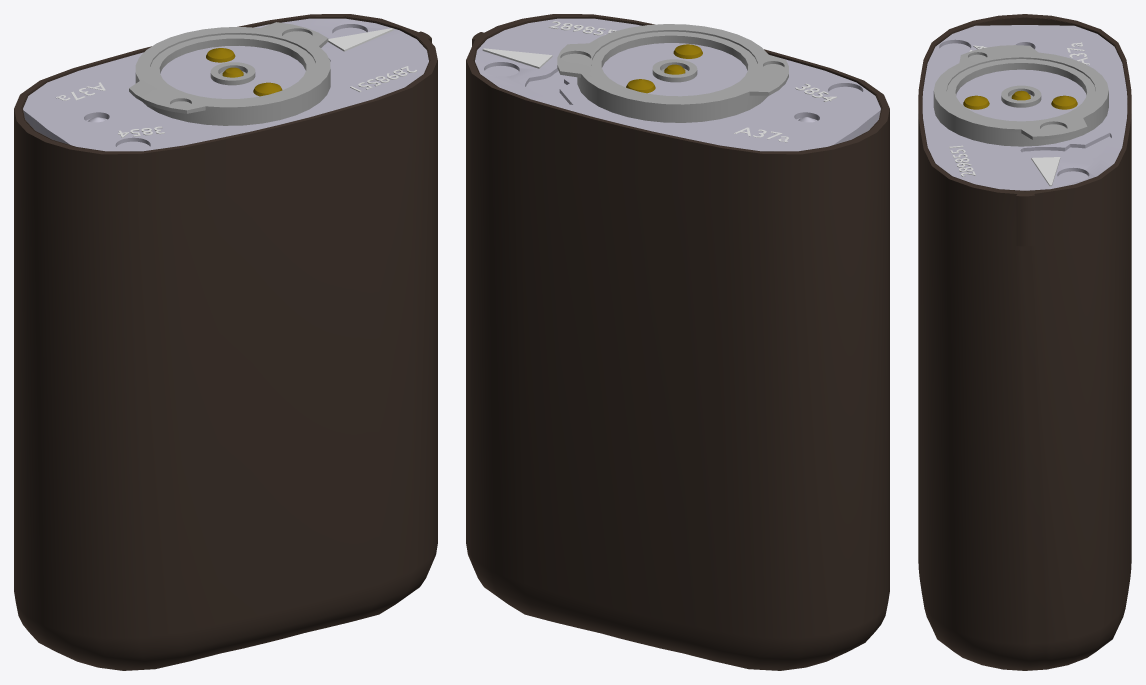
Rendered from nucleus7_battery_long_brown.glb.
3 views of the same model, side by side, from view 1: azimuth 30°, elevation 25°; view 2: azimuth 150°, elevation 25°; view 3: azimuth 270°, elevation 25° (orthographic). The views are drawn at different scales.
Parts seen in each view (by area): view 1: Battery Module for Charging; view 2: Battery Module for Charging; view 3: Battery Module for Charging.
Boxes of the visible parts, x1,y1,x2,y2 form: Battery Module for Charging: [14, 14, 437, 670]; Battery Module for Charging: [466, 14, 889, 670]; Battery Module for Charging: [918, 14, 1131, 670].
Bounding box in the file's own units: 0.048 × 0.0641 × 0.0238.
